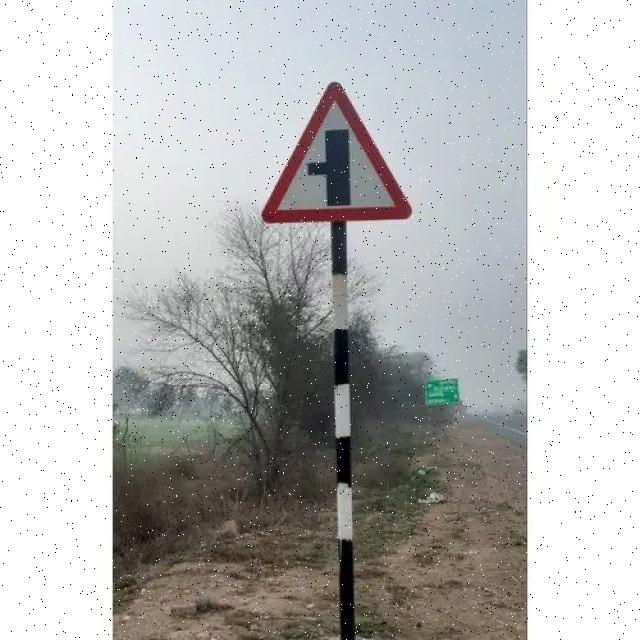Sideroad_toleft: (261, 81, 413, 226)
